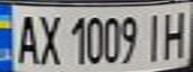0: (84, 12, 106, 65), (103, 12, 124, 65)
1: (63, 11, 87, 65)
9: (118, 11, 142, 64)
A: (9, 10, 42, 65)
H: (157, 7, 193, 60)
I: (142, 9, 169, 62)
X: (33, 10, 66, 66)
